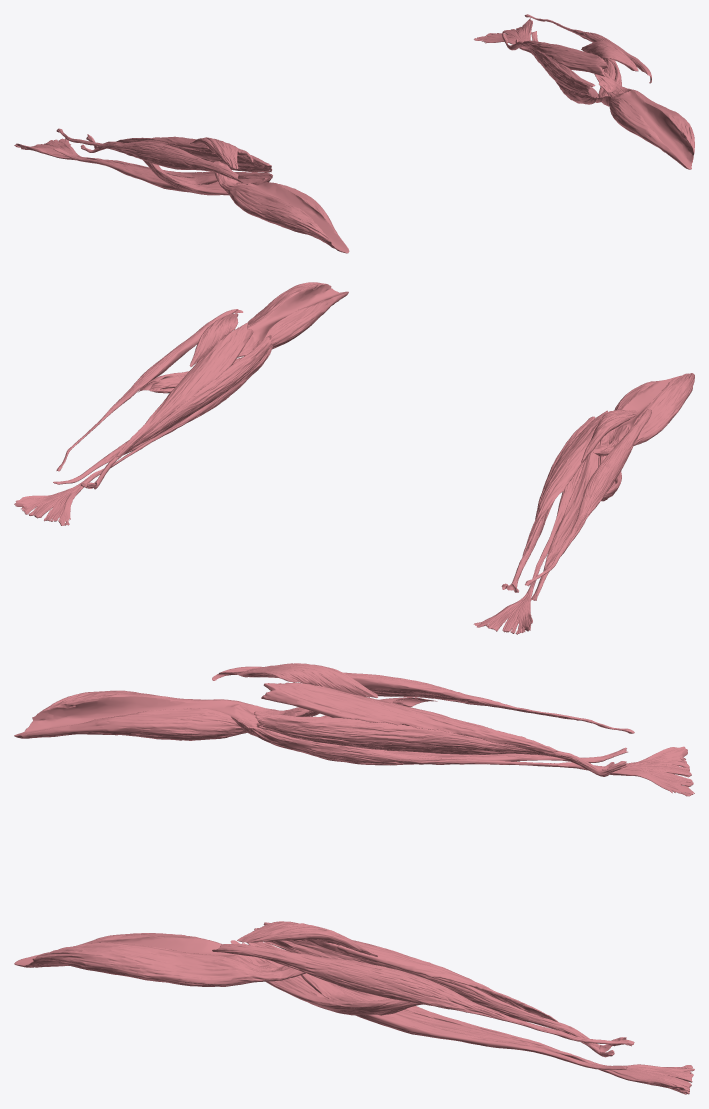
The model's file is coude-muscles.glb.
The picture shows the model from 3 angles, top to bottom: view 1: azimuth 30°, elevation 25°; view 2: azimuth 150°, elevation 25°; view 3: azimuth 270°, elevation 25°; orthographic projection. The views are drawn at different scales.
Visible parts, largest first — view 1: brachial_droit, brachial_gauche, court_extenseur_radial_du_carpe_droit, flechisseur_ulnaire_du_carpe_chef_ulnaire_gauche, long_palmaire_droit, flechisseur_ulnaire_du_carpe_chef_humeral_gauche, flechisseur_radial_du_carpe_droit, long_palmaire_gauche, flechisseur_ulnaire_du_carpe_chef_humeral_droit, rond_pronateur_chef_humeral_droit, flechisseur_ulnaire_du_carpe_chef_ulnaire_droit, ancone_droit (+2 smaller); view 2: brachial_gauche, brachial_droit, flechisseur_ulnaire_du_carpe_chef_ulnaire_gauche, flechisseur_ulnaire_du_carpe_chef_humeral_gauche, long_palmaire_gauche, court_extenseur_radial_du_carpe_droit, long_palmaire_droit, flechisseur_ulnaire_du_carpe_chef_ulnaire_droit, flechisseur_radial_du_carpe_droit, court_extenseur_radial_du_carpe_gauche, flechisseur_ulnaire_du_carpe_chef_humeral_droit, ancone_gauche (+1 smaller); view 3: brachial_droit, brachial_gauche, flechisseur_ulnaire_du_carpe_chef_humeral_droit, court_extenseur_radial_du_carpe_gauche, flechisseur_ulnaire_du_carpe_chef_ulnaire_droit, long_palmaire_droit, flechisseur_radial_du_carpe_gauche, flechisseur_ulnaire_du_carpe_chef_humeral_gauche, court_extenseur_radial_du_carpe_droit, long_palmaire_gauche, flechisseur_ulnaire_du_carpe_chef_ulnaire_gauche, rond_pronateur_chef_humeral_gauche (+3 smaller).
Boxes of the visible parts, x1=… form: brachial_droit: x1=213, y1=161, x2=349, y2=253; brachial_gauche: x1=594, y1=71, x2=694, y2=169; court_extenseur_radial_du_carpe_droit: x1=56, y1=128, x2=243, y2=182; flechisseur_ulnaire_du_carpe_chef_ulnaire_gauche: x1=522, y1=40, x2=607, y2=76; long_palmaire_droit: x1=14, y1=138, x2=272, y2=179; flechisseur_ulnaire_du_carpe_chef_humeral_gauche: x1=501, y1=32, x2=595, y2=94; flechisseur_radial_du_carpe_droit: x1=53, y1=147, x2=270, y2=192; long_palmaire_gauche: x1=474, y1=18, x2=596, y2=104; flechisseur_ulnaire_du_carpe_chef_humeral_droit: x1=80, y1=134, x2=272, y2=172; rond_pronateur_chef_humeral_droit: x1=143, y1=160, x2=271, y2=195; flechisseur_ulnaire_du_carpe_chef_ulnaire_droit: x1=116, y1=136, x2=253, y2=162; ancone_droit: x1=190, y1=137, x2=238, y2=168; brachial_gauche: x1=237, y1=282, x2=348, y2=357; brachial_droit: x1=593, y1=373, x2=694, y2=456; flechisseur_ulnaire_du_carpe_chef_ulnaire_gauche: x1=116, y1=322, x2=253, y2=458; flechisseur_ulnaire_du_carpe_chef_humeral_gauche: x1=80, y1=337, x2=271, y2=489; long_palmaire_gauche: x1=14, y1=345, x2=272, y2=525; court_extenseur_radial_du_carpe_droit: x1=525, y1=409, x2=651, y2=586; long_palmaire_droit: x1=473, y1=460, x2=585, y2=634; flechisseur_ulnaire_du_carpe_chef_ulnaire_droit: x1=522, y1=410, x2=607, y2=556; flechisseur_radial_du_carpe_droit: x1=531, y1=441, x2=600, y2=600; court_extenseur_radial_du_carpe_gauche: x1=56, y1=309, x2=243, y2=471; flechisseur_ulnaire_du_carpe_chef_humeral_droit: x1=501, y1=416, x2=595, y2=592; ancone_gauche: x1=189, y1=313, x2=238, y2=366; brachial_droit: x1=14, y1=690, x2=319, y2=740; brachial_gauche: x1=14, y1=933, x2=323, y2=986; flechisseur_ulnaire_du_carpe_chef_humeral_droit: x1=254, y1=711, x2=626, y2=776; court_extenseur_radial_du_carpe_gauche: x1=212, y1=944, x2=634, y2=1046; flechisseur_ulnaire_du_carpe_chef_ulnaire_droit: x1=261, y1=682, x2=558, y2=755; long_palmaire_droit: x1=247, y1=727, x2=694, y2=796; flechisseur_radial_du_carpe_gauche: x1=241, y1=943, x2=627, y2=1069; flechisseur_ulnaire_du_carpe_chef_humeral_gauche: x1=254, y1=928, x2=626, y2=1057; court_extenseur_radial_du_carpe_droit: x1=212, y1=666, x2=634, y2=733; long_palmaire_gauche: x1=247, y1=942, x2=694, y2=1094; flechisseur_ulnaire_du_carpe_chef_ulnaire_gauche: x1=263, y1=922, x2=557, y2=1021; rond_pronateur_chef_humeral_gauche: x1=230, y1=940, x2=423, y2=1015.
Size of the model in its own units: 581 by 108 by 487.
